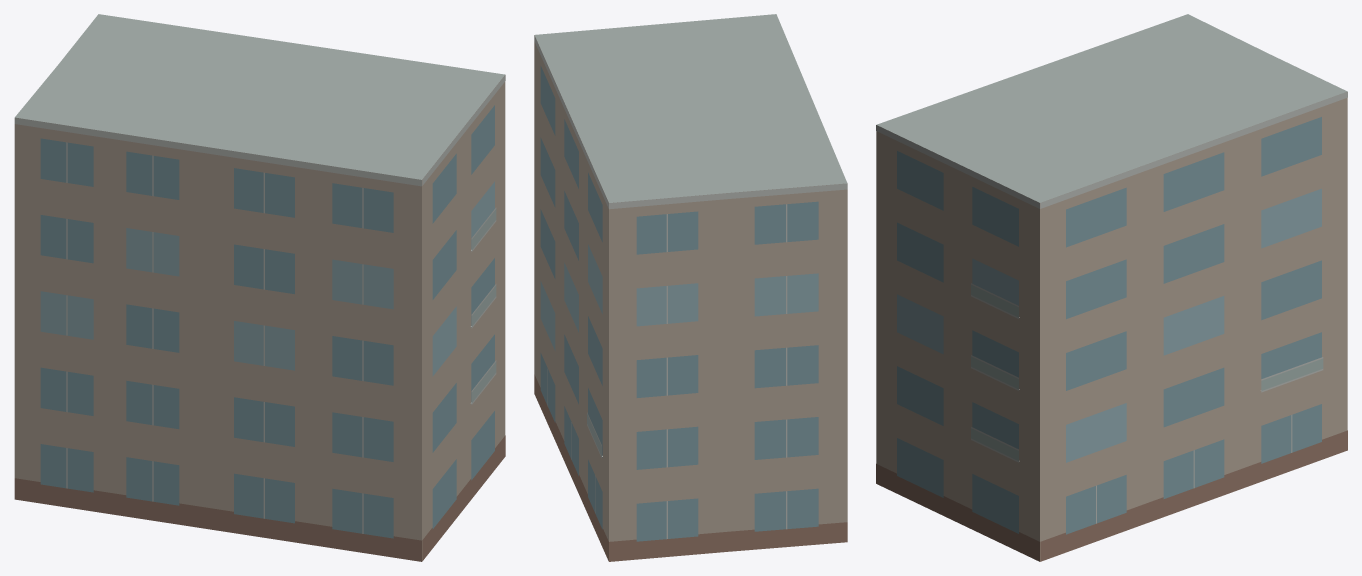
File: survey-upis-32964515.glb
3 renders of one model, left to right at view 1: azimuth 30°, elevation 25°; view 2: azimuth 150°, elevation 25°; view 3: azimuth 270°, elevation 25°, orthographic. The views are drawn at different scales.
Parts seen in each view (by area): view 1: survey-upis-32964515.tmp; view 2: survey-upis-32964515.tmp; view 3: survey-upis-32964515.tmp.
Part boxes in pixels (x1,y1,x2,y2): survey-upis-32964515.tmp: (14,14,505,561); survey-upis-32964515.tmp: (534,14,847,561); survey-upis-32964515.tmp: (876,14,1347,561).
Size of the model in its own units: 16.15 by 14.3 by 17.03.
